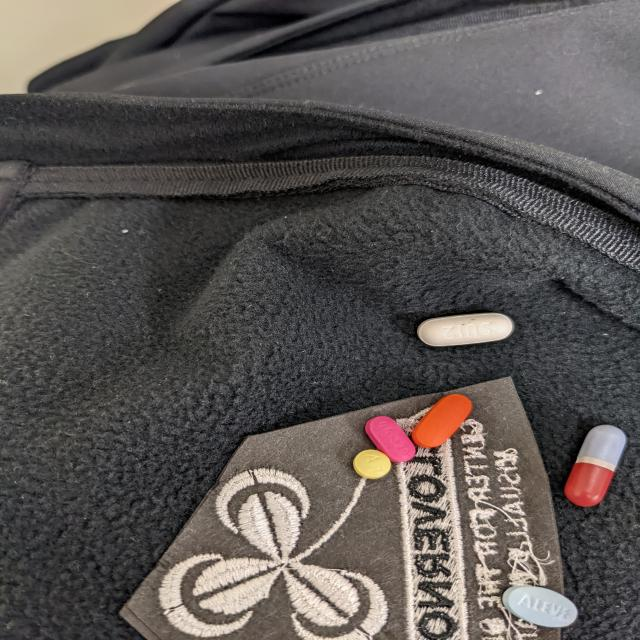non-organic waste: (563, 423, 627, 508), (415, 312, 516, 348), (411, 393, 474, 449), (502, 584, 578, 628), (363, 414, 418, 464), (351, 448, 393, 480)
